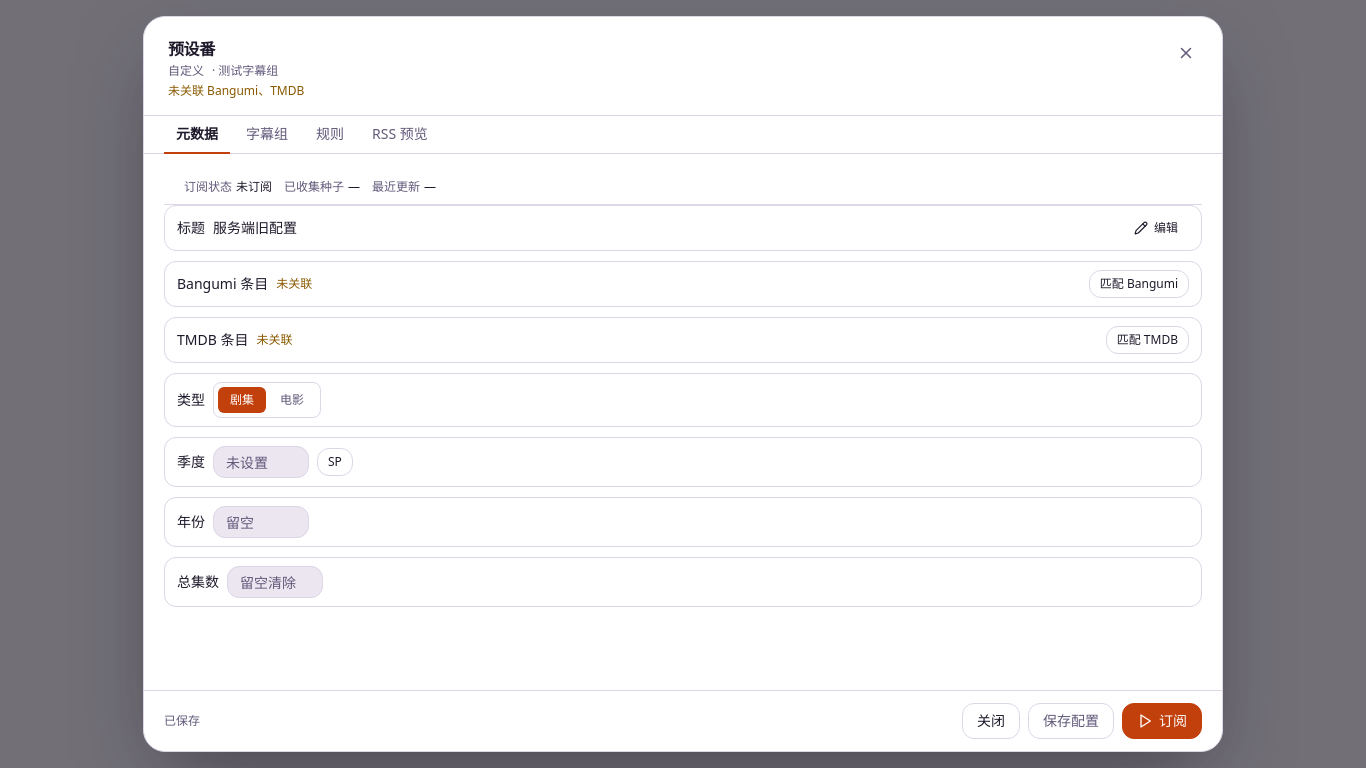
Scenario: AnimeConfigDialog draft candidate loading › 版本冲突时覆盖保存使用服务端 fresh version 且不合并字段
Click the button with aria-label "编辑标题" at (1156,228), box [1123, 214, 1189, 242]
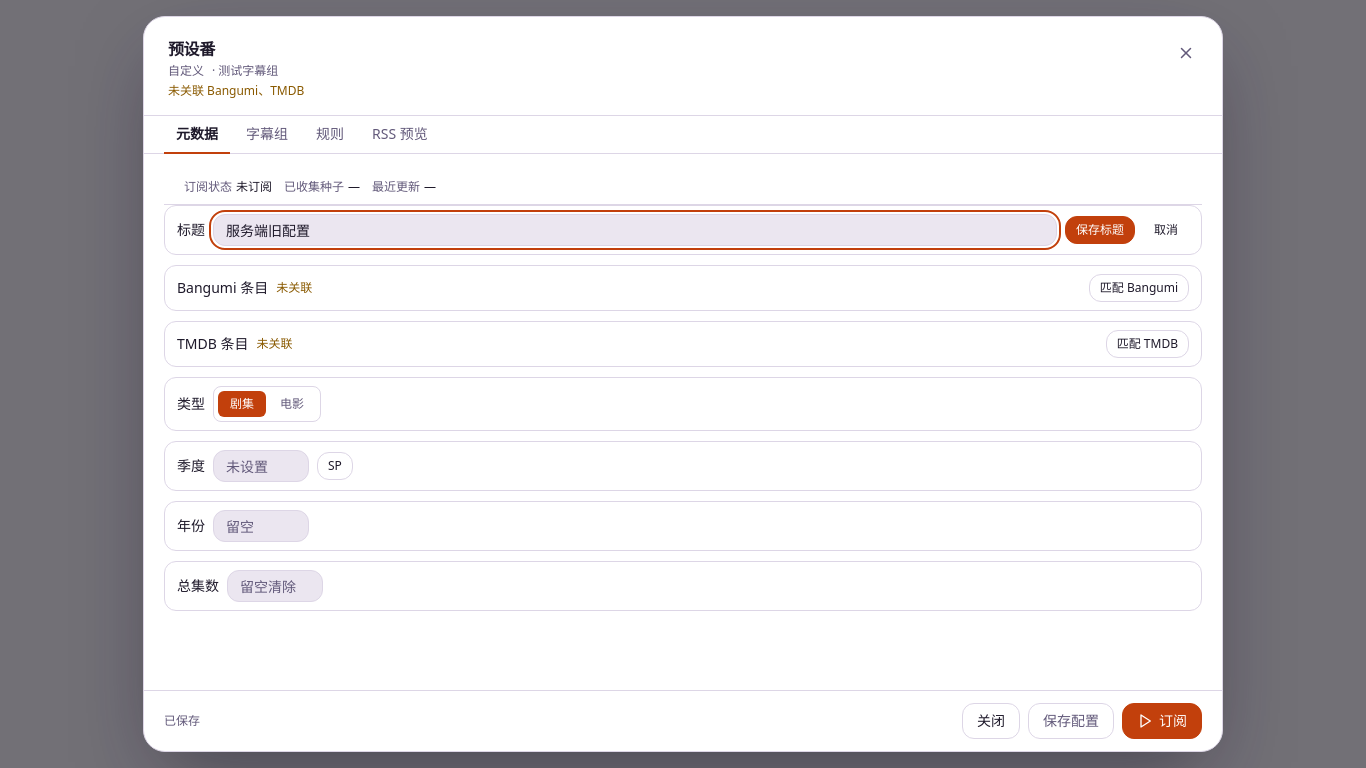
Replace the text in the field named "标题" with "本地覆盖配置" at (635,230), box [213, 214, 1057, 246]
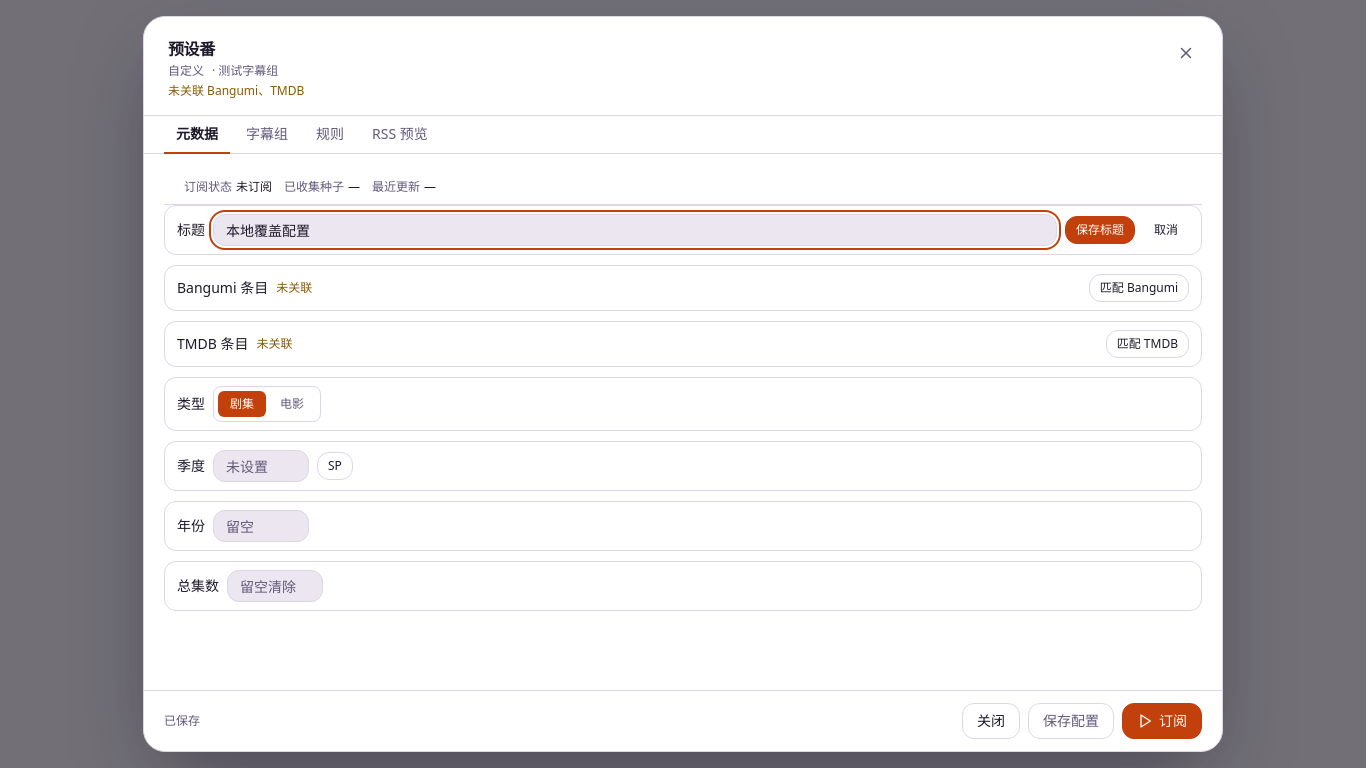
Click the button "保存标题" at (1100,230), box [1065, 216, 1135, 244]
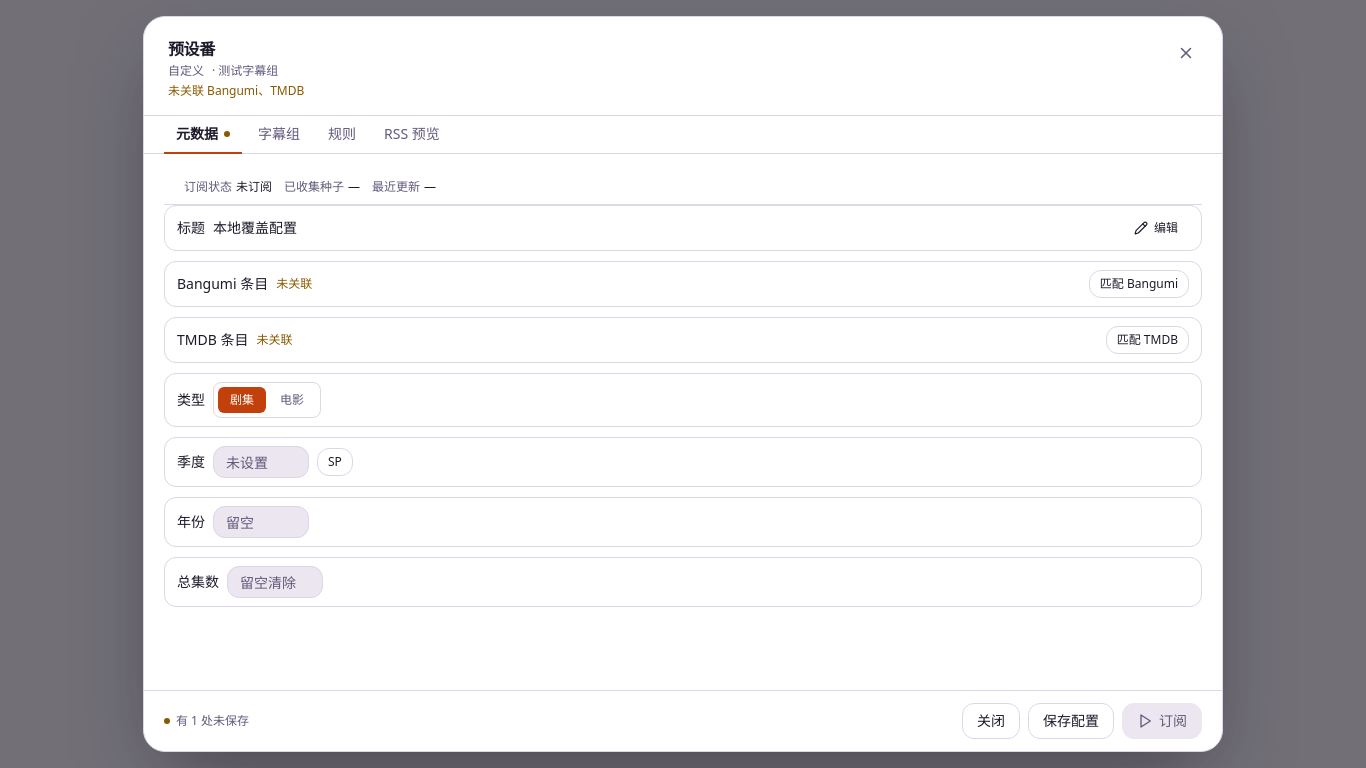
Click the button "保存配置" at (1071,721), box [1028, 703, 1114, 739]
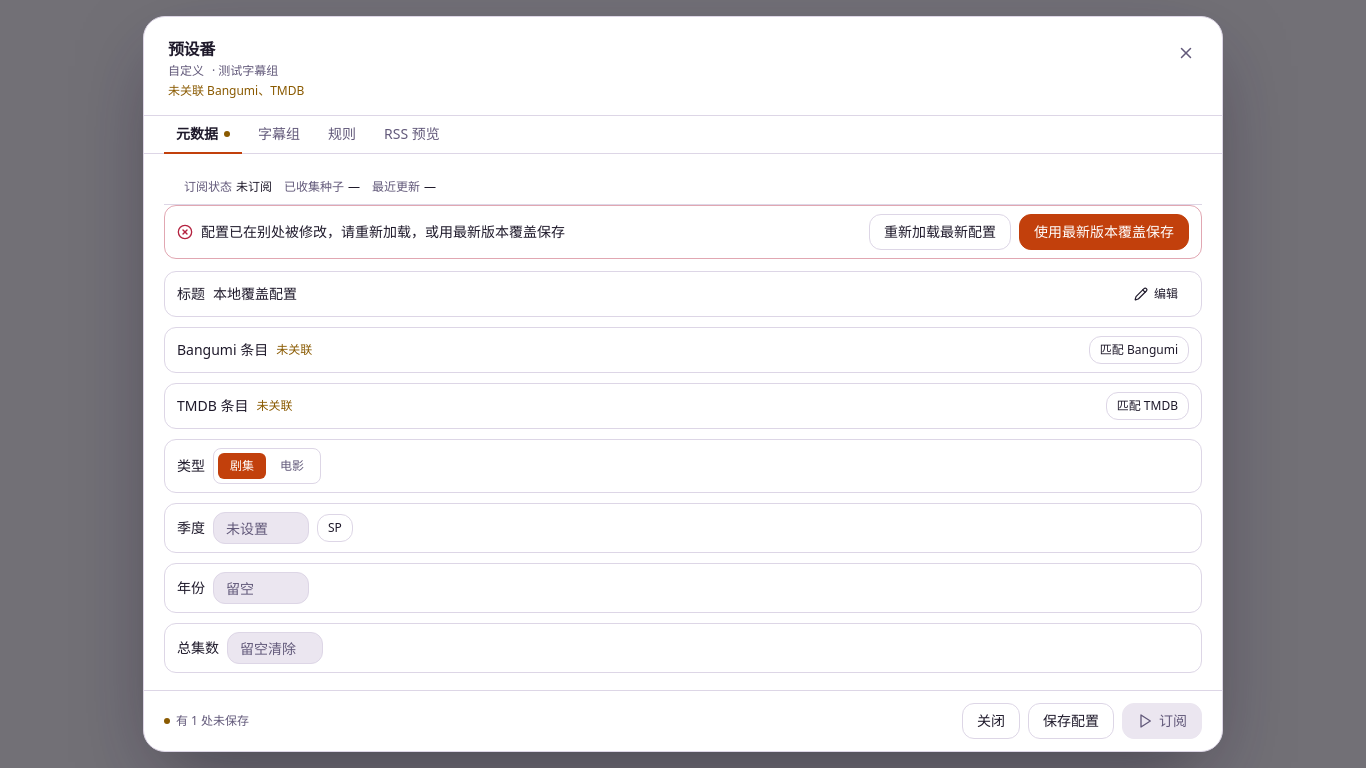
Click the button "使用最新版本覆盖保存" at (1104,232), box [1019, 214, 1189, 250]
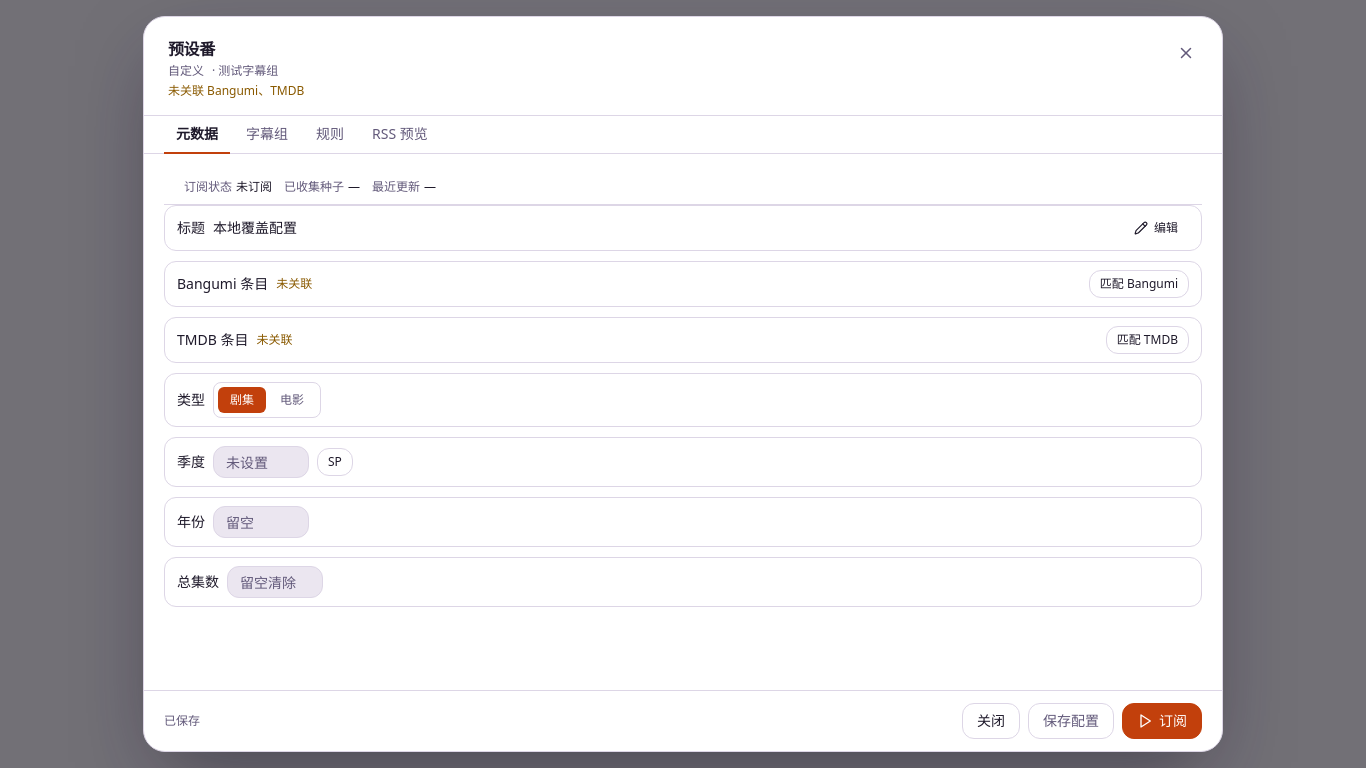
Expected: the text "本地覆盖配置" is shown, [213, 218, 297, 237]
Expected: the text "已保存" is shown, [164, 713, 200, 729]
Expected: the button "使用最新版本覆盖保存" is gone
